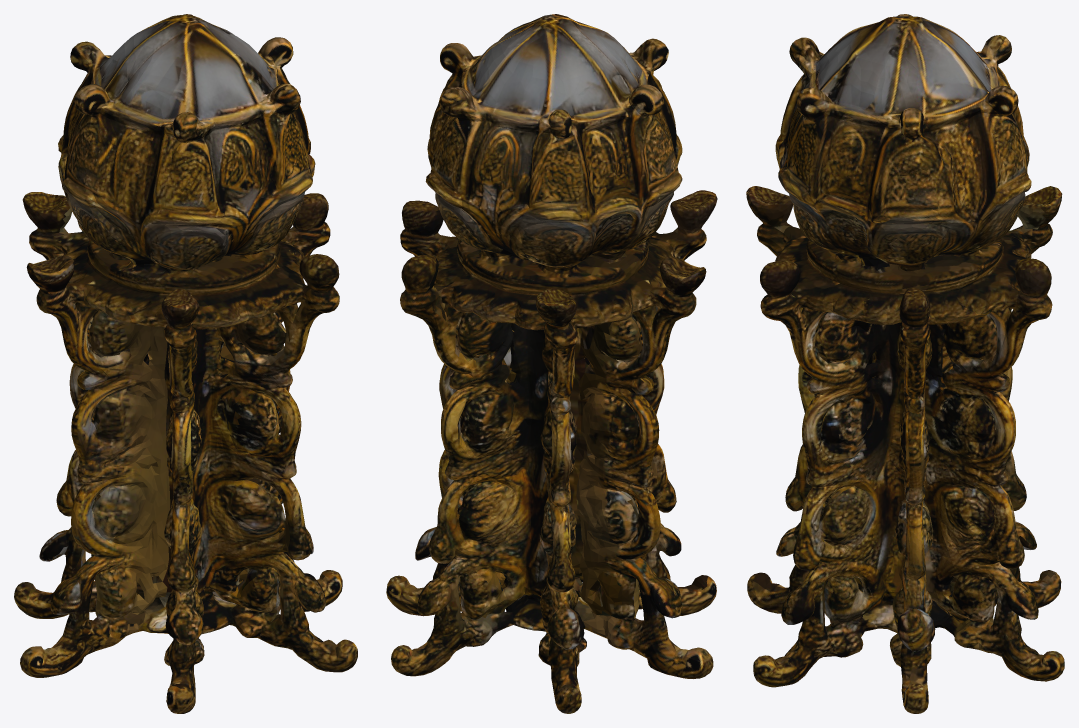
3 views of the same model, side by side, from view 1: azimuth 30°, elevation 25°; view 2: azimuth 150°, elevation 25°; view 3: azimuth 270°, elevation 25° (orthographic).
Visible parts, largest first — view 1: textured_mesh; view 2: textured_mesh; view 3: textured_mesh.
Part boxes in pixels (x1,y1,x2,y2): textured_mesh: [14, 14, 357, 713]; textured_mesh: [386, 14, 717, 713]; textured_mesh: [746, 14, 1064, 713].
Bounding box in the file's own units: 1.07 × 1.99 × 0.9177.
Materials: 1 (1 with a texture image).
